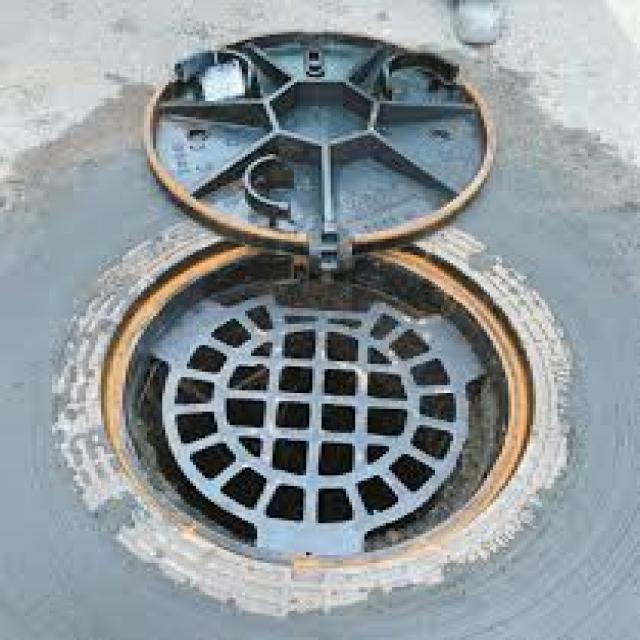manhole: (56, 32, 567, 618)
